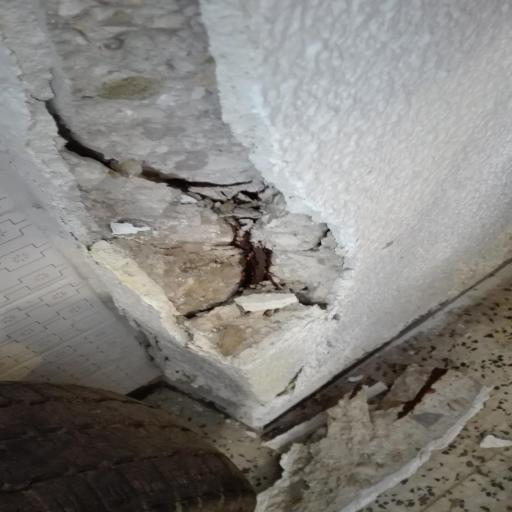spalling: (4, 0, 342, 366)
